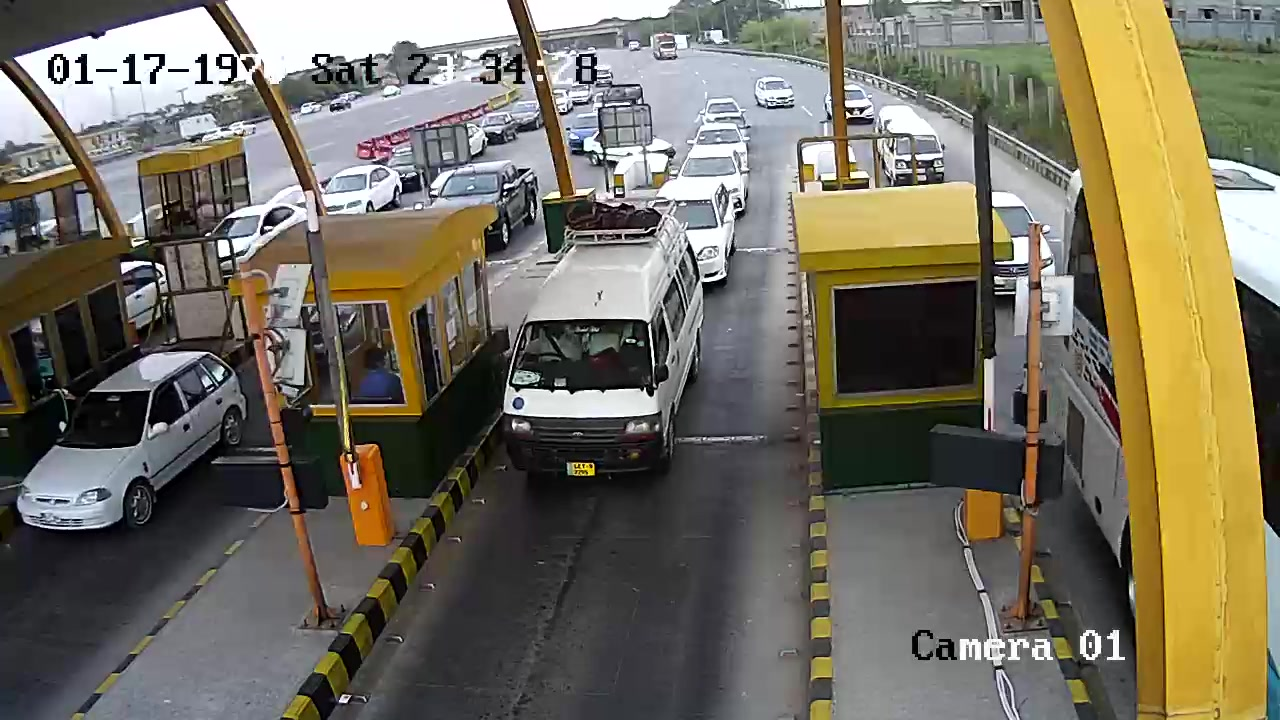F3: (506, 193, 704, 485)
